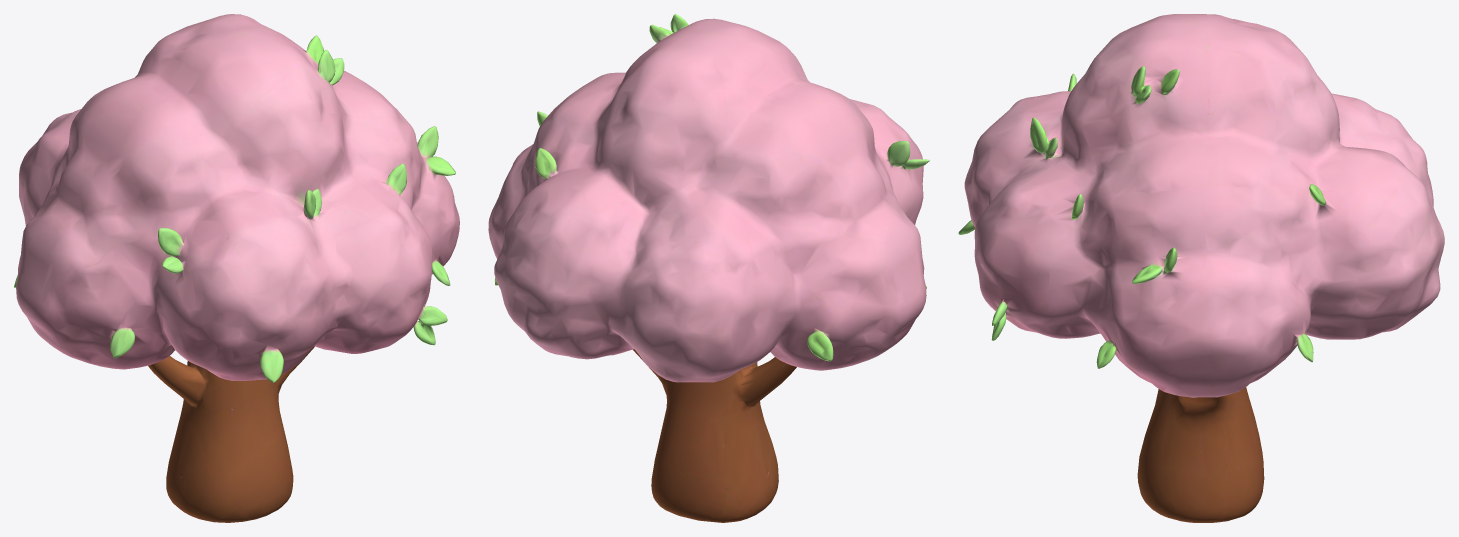
Rendered from cherry_blossom_tree.glb.
The picture shows the model from 3 angles, left to right: view 1: azimuth 30°, elevation 25°; view 2: azimuth 150°, elevation 25°; view 3: azimuth 270°, elevation 25°; orthographic projection. The views are drawn at different scales.
Bounding box in the file's own units: 1.75 × 1.9 × 1.73.
Materials: 1 (1 with a texture image).
